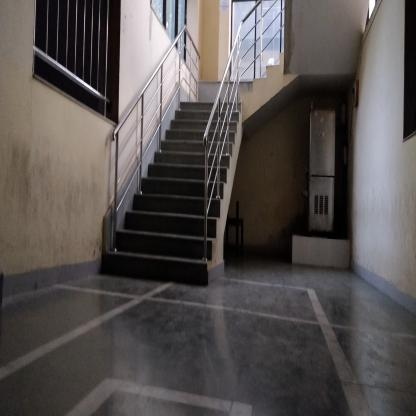stairs: (131, 195, 205, 293)
